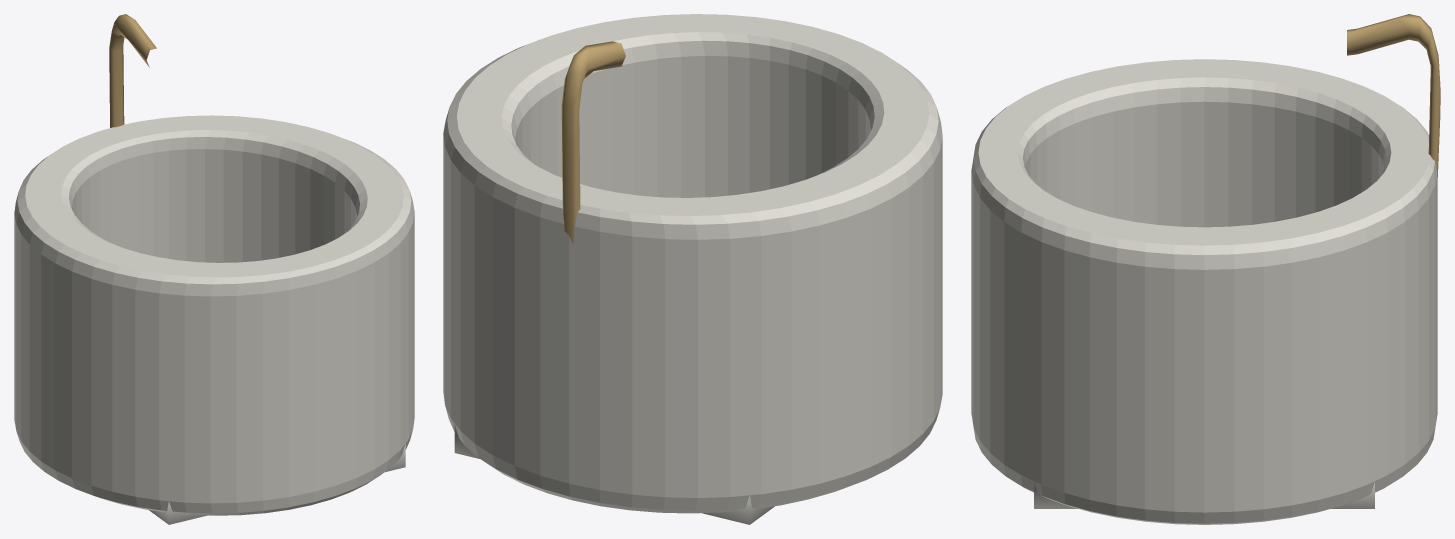
The model's file is bath-10-0.lod.glb.
3 renders of one model, left to right at view 1: azimuth 30°, elevation 25°; view 2: azimuth 150°, elevation 25°; view 3: azimuth 270°, elevation 25°, orthographic. The views are drawn at different scales.
Visible parts, largest first — view 1: part (×2); view 2: part (×2); view 3: part (×2).
Part boxes in pixels (x1,y1,x2,y2): part (×2): (14, 14, 414, 524); part (×2): (443, 14, 942, 524); part (×2): (971, 14, 1440, 524).
Size of the model in its own units: 1 by 1 by 1.
